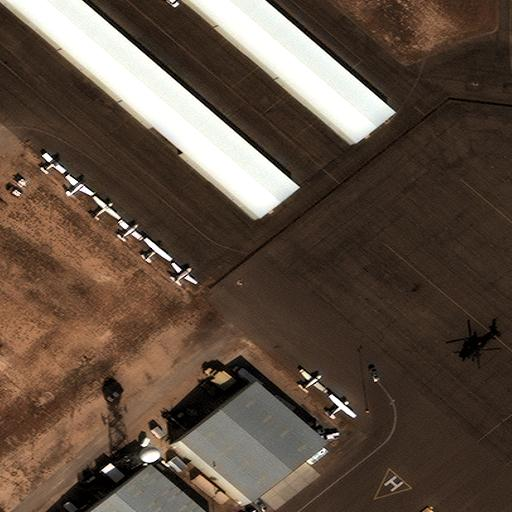Small Civil Transport: (327, 393, 357, 417), (144, 236, 172, 261), (94, 195, 121, 218), (68, 173, 94, 196), (301, 368, 327, 390), (41, 152, 66, 172), (173, 262, 198, 282), (119, 219, 143, 239)
